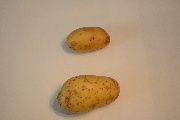potato: (57, 76, 121, 114), (67, 26, 109, 52)
